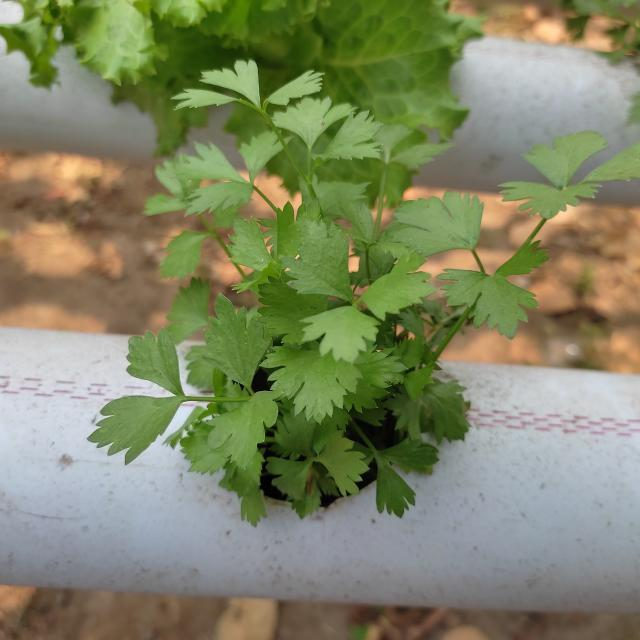Wet Waste: (153, 89, 548, 537)
